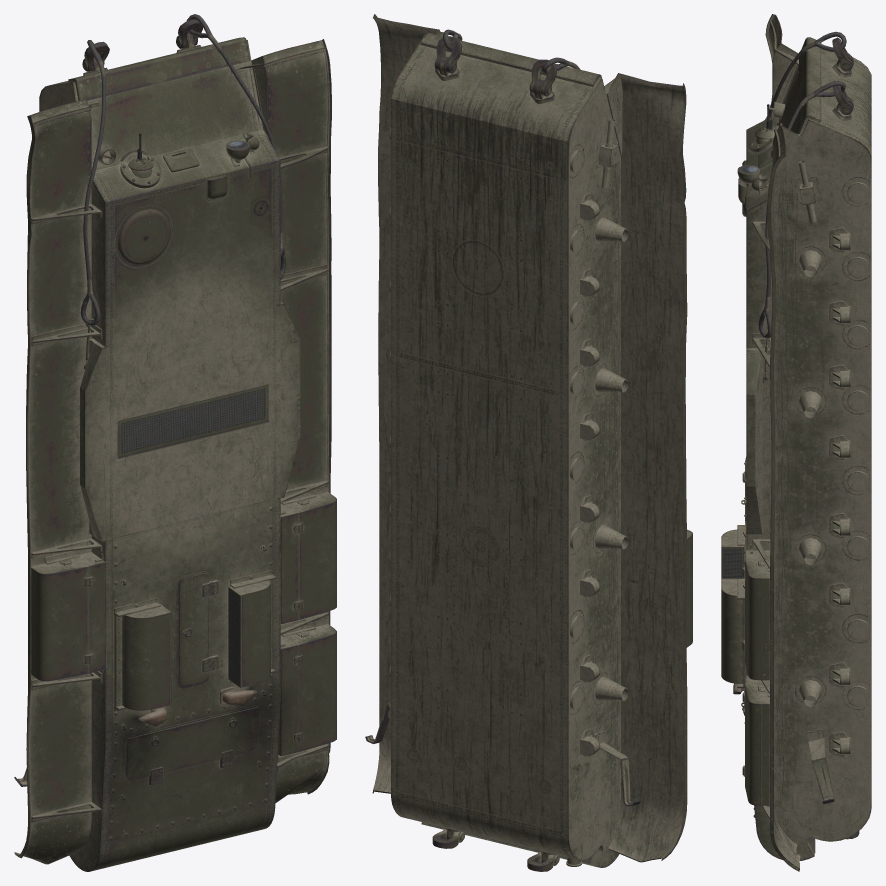
The model's file is Hull.glb.
3 renders of one model, left to right at view 1: azimuth 30°, elevation 25°; view 2: azimuth 150°, elevation 25°; view 3: azimuth 270°, elevation 25°, orthographic. The views are drawn at different scales.
Parts seen in each view (by area): view 1: set_0_group_0; view 2: set_0_group_0; view 3: set_0_group_0.
Part boxes in pixels (x1,y1,x2,y2): set_0_group_0: (14,14,336,871); set_0_group_0: (365,14,692,871); set_0_group_0: (721,14,871,871).
Bounding box in the file's own units: 3.42 × 8.63 × 1.54.
Materials: 1 (1 with a texture image).
